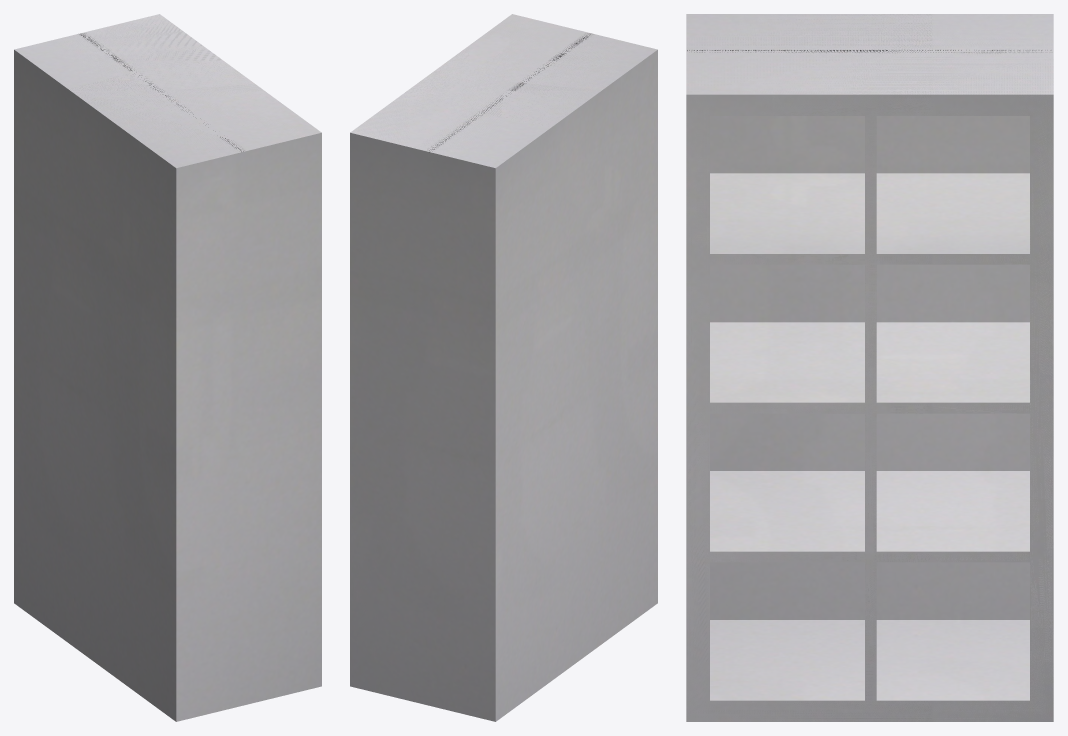
Rendered from expedit_white_ikea_shelf.dae.
3 renders of one model, left to right at view 1: azimuth 30°, elevation 25°; view 2: azimuth 150°, elevation 25°; view 3: azimuth 270°, elevation 25°, orthographic. The views are drawn at different scales.
Visible parts, largest first — view 1: SketchUp (×9); view 2: SketchUp (×9); view 3: SketchUp (×9).
Boxes of the visible parts, bbox=[...] form: SketchUp (×9): bbox=[14, 14, 321, 721]; SketchUp (×9): bbox=[350, 14, 657, 721]; SketchUp (×9): bbox=[686, 14, 1053, 721].
Bounding box in the file's own units: 0.4086 × 0.7879 × 1.48.
1 material, 1 textured.
